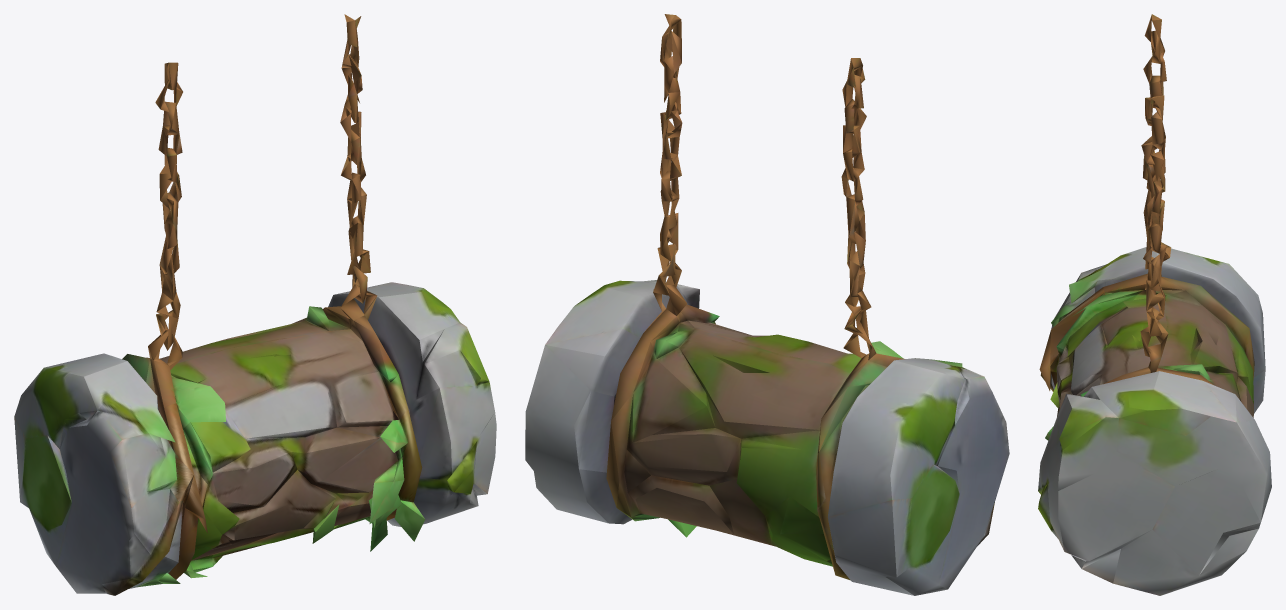
Rendered from m2SwingingStoneRam.glb.
3 renders of one model, left to right at view 1: azimuth 30°, elevation 25°; view 2: azimuth 150°, elevation 25°; view 3: azimuth 270°, elevation 25°, orthographic. The views are drawn at different scales.
Parts seen in each view (by area): view 1: model; view 2: model; view 3: model.
Boxes of the visible parts, x1,y1,x2,y2 form: model: [14, 14, 496, 595]; model: [525, 14, 1009, 595]; model: [1038, 14, 1271, 595].
Bounding box in the file's own units: 1.44 × 1.9 × 0.8533.
Materials: 1 (1 with a texture image).
